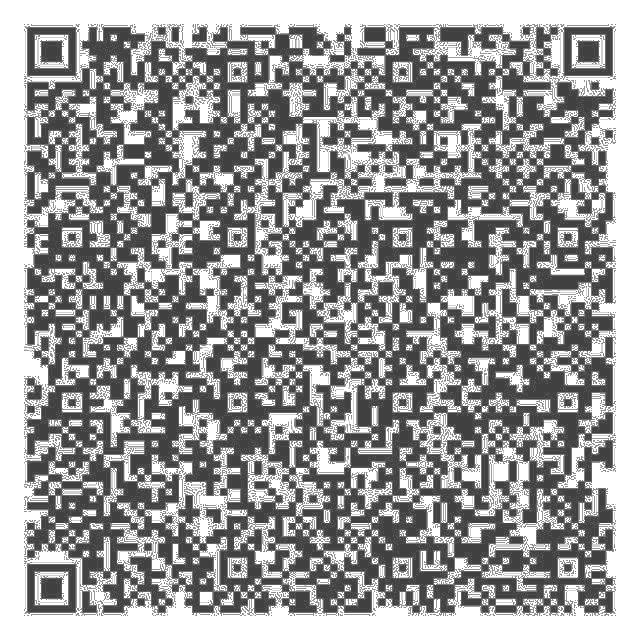qr_code: (18, 17, 623, 624)
